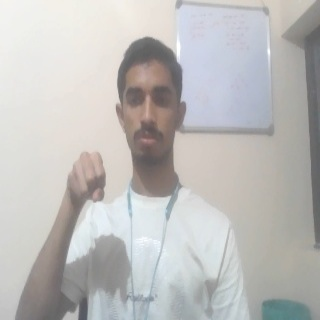Face: (114, 37, 188, 161)
Yes: (65, 149, 108, 208)
